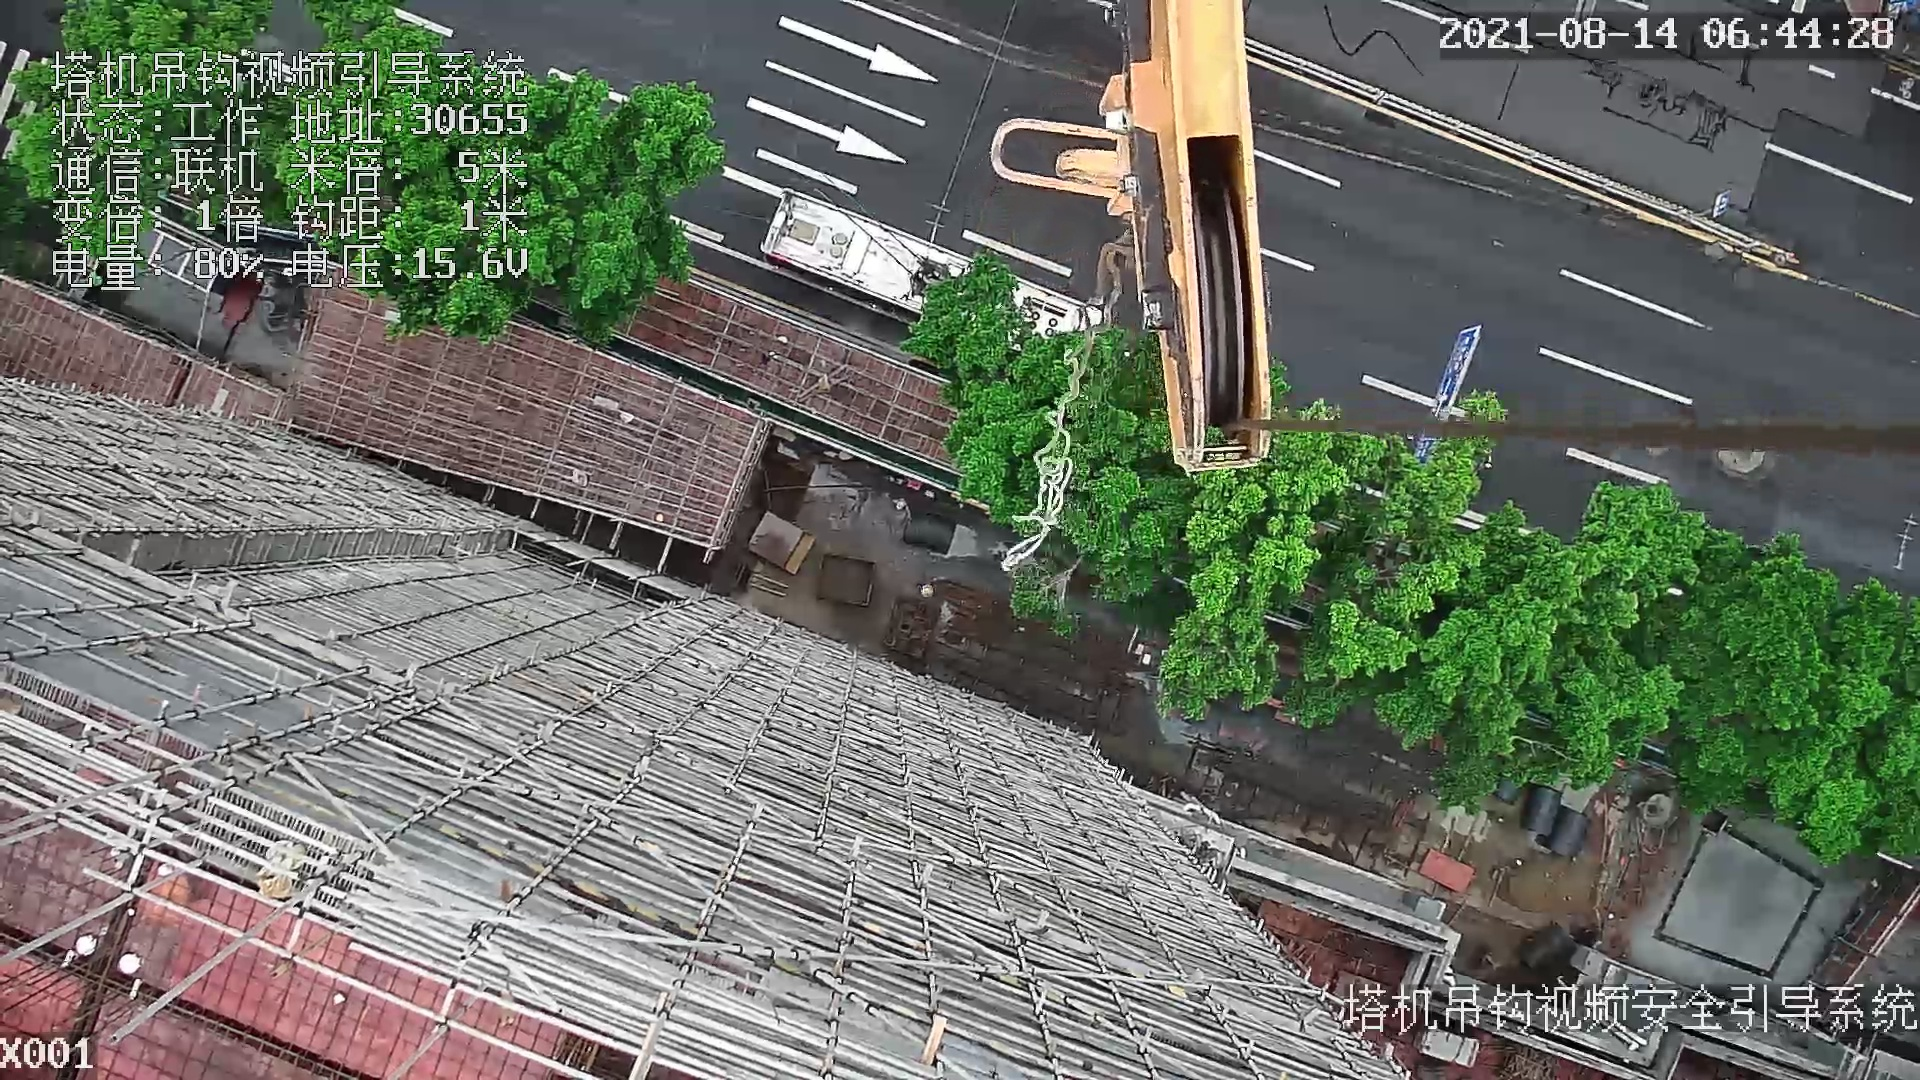hook: (977, 6, 1277, 476)
person: (888, 495, 916, 521)
